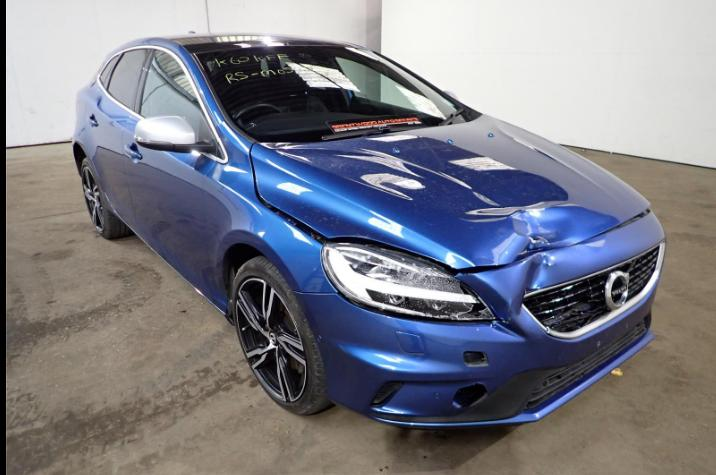Back-door: (86, 45, 158, 231)
Back-wheel: (81, 158, 133, 239)
Back-window: (108, 49, 151, 111), (101, 56, 119, 83)
Fender: (204, 121, 338, 314)
Front-bumper: (294, 209, 666, 429)
Front-door: (122, 46, 228, 304)
Front-wheel: (231, 256, 333, 415)
Front-window: (141, 50, 216, 142)
Grille: (524, 245, 660, 339)
Headlight: (322, 243, 496, 321)
Hood: (250, 114, 653, 273)
License-plate: (324, 112, 425, 134)
Mirror: (134, 114, 225, 160)
Quarter-panel: (72, 83, 92, 165)
Rocker-panel: (110, 207, 234, 325)
Roof: (109, 34, 368, 56)
Windshield: (185, 41, 467, 142)
